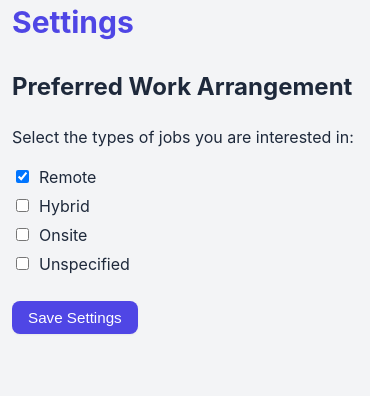
Test: Settings Component › saves settings to Firestore and API
Click the checkbox labelled "Hybrid" at (22, 205), box [16,199,29,212]
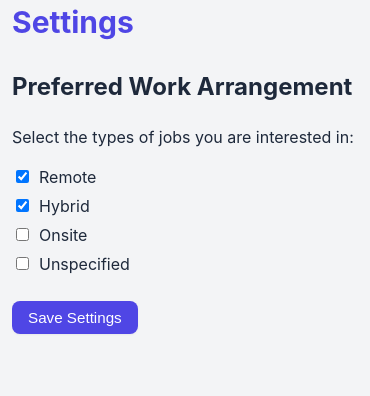
Click the checkbox labelled "Remote" at (22, 176), box [16,170,29,183]
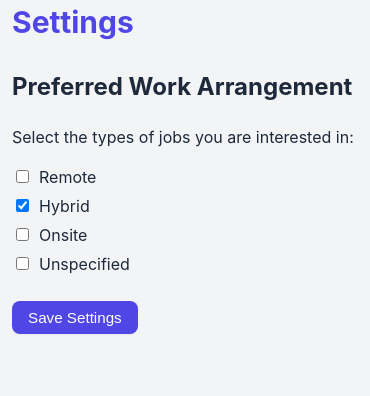
Click the button "Save Settings" at (75, 317), box [12,301,138,334]
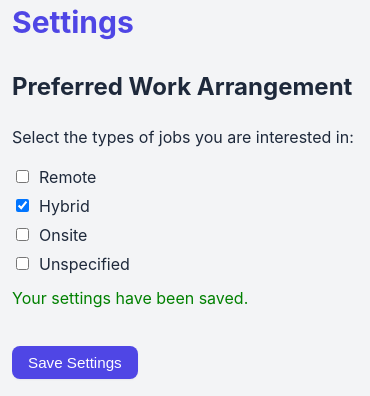
expect the button "Saving..." is shown: met, box [12,346,138,379]
expect the text "Your settings have been saved." is shown: met, box [12,288,248,308]
